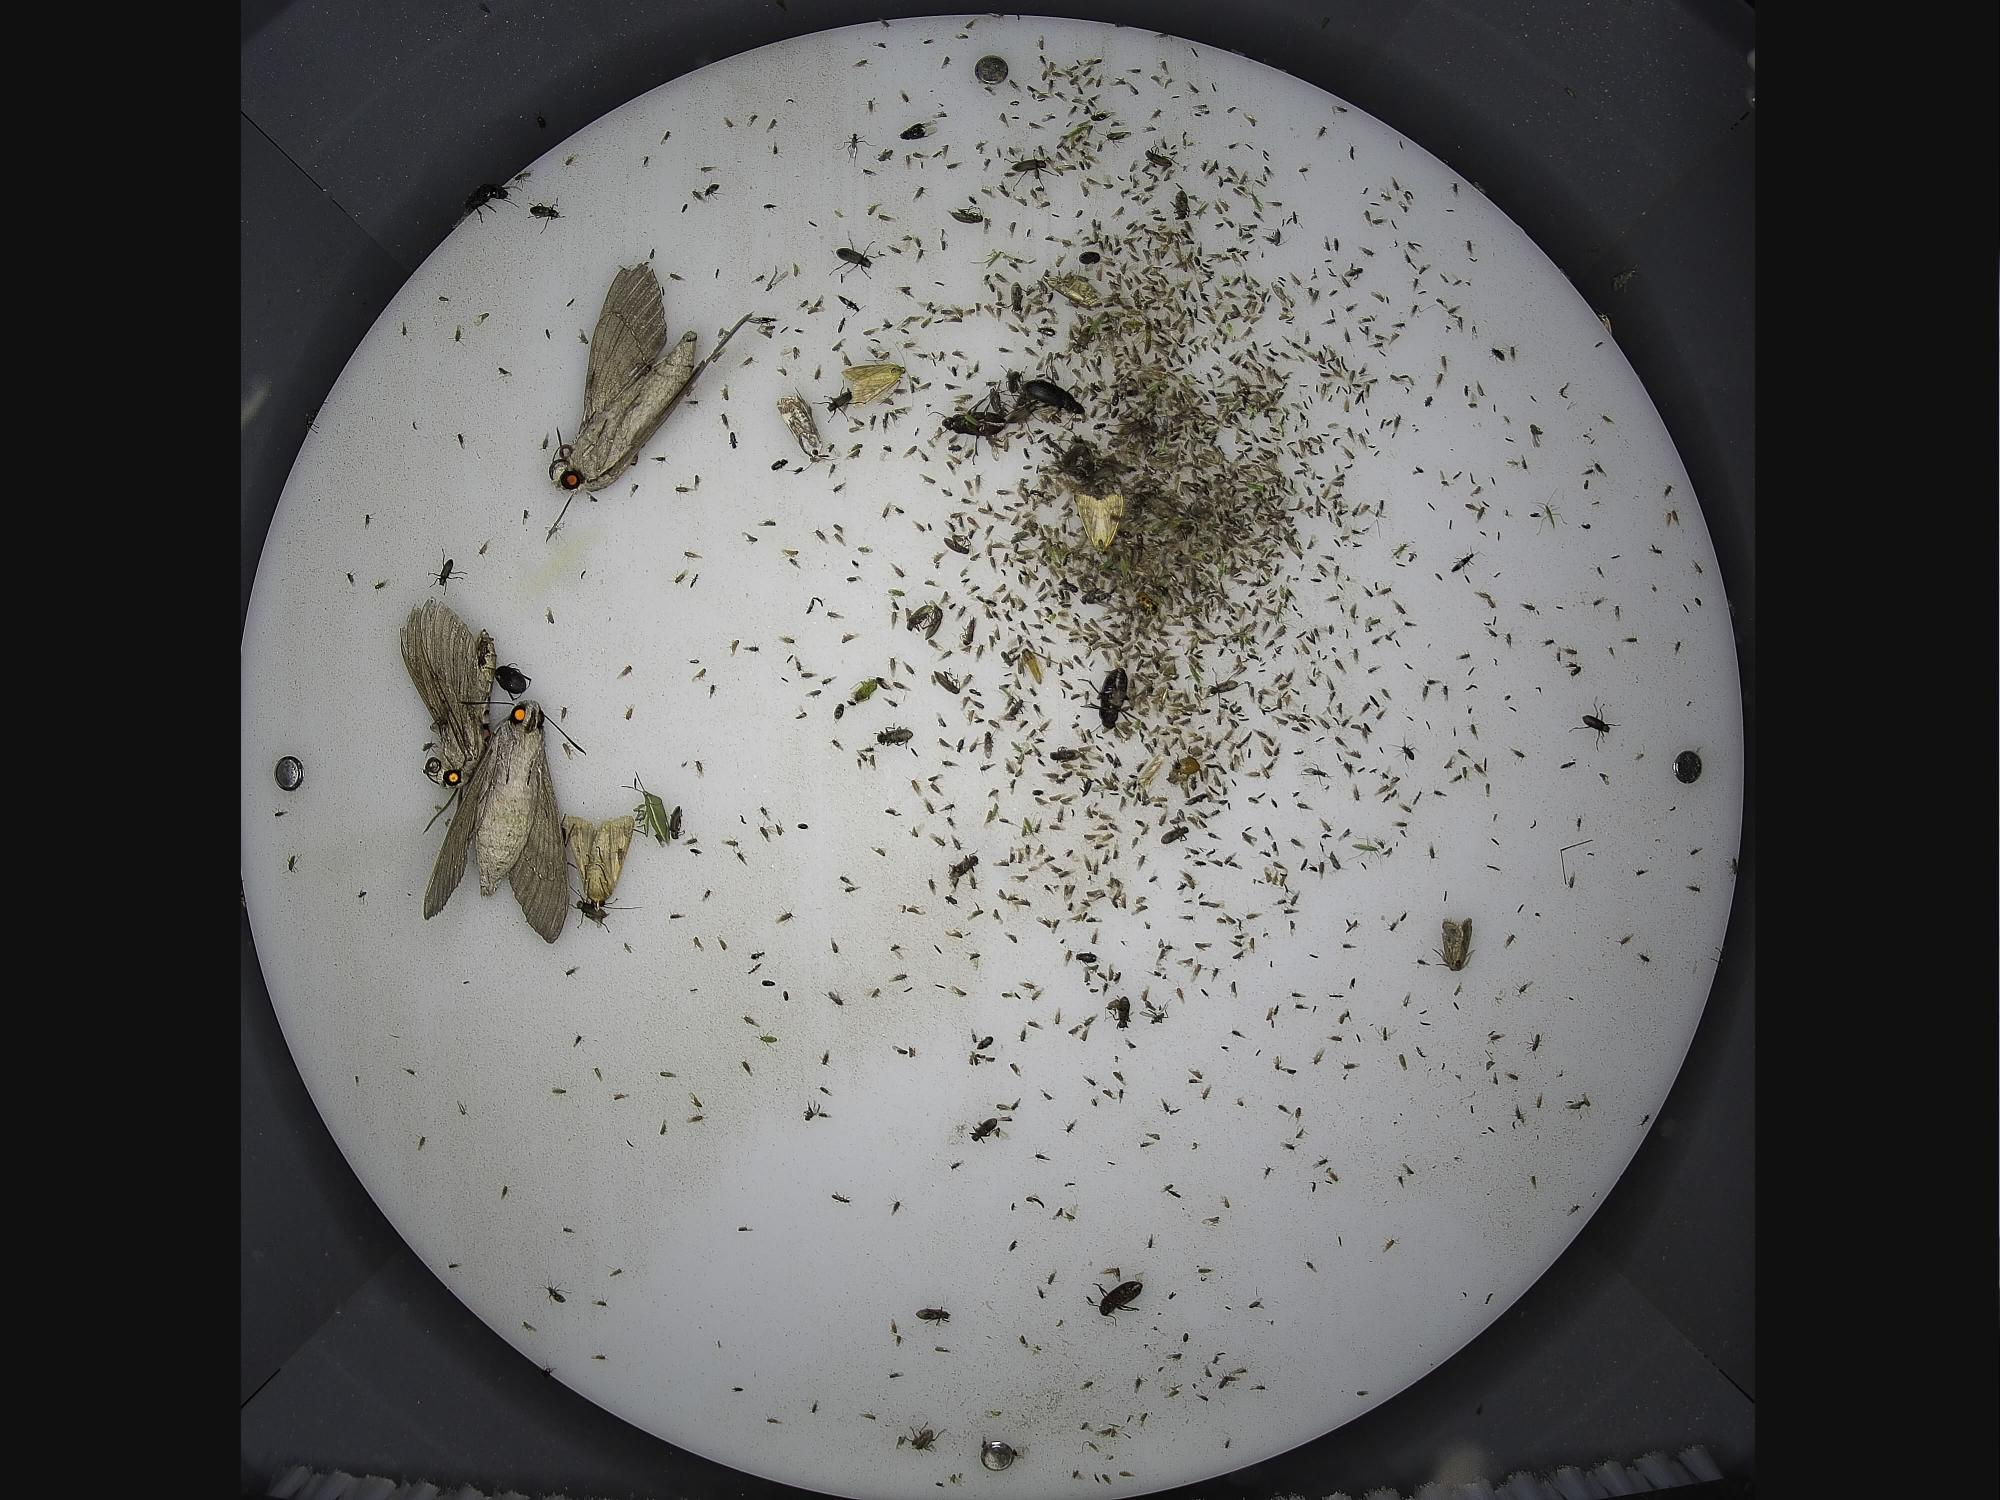Chrysopidae: (1345, 832, 1387, 868), (847, 676, 879, 706), (882, 588, 910, 599)
Coridius chinensis: (619, 766, 671, 848)
Tiny fly: (894, 118, 942, 143), (902, 600, 934, 633), (912, 1305, 953, 1328), (946, 205, 987, 225), (772, 903, 798, 930), (975, 730, 998, 759), (1072, 947, 1104, 966), (802, 1097, 824, 1123), (808, 525, 831, 548), (872, 498, 894, 523), (904, 772, 923, 800), (683, 1109, 712, 1128), (824, 603, 847, 626), (672, 477, 693, 503), (474, 536, 493, 562), (614, 660, 636, 682), (680, 547, 707, 564), (372, 574, 391, 596), (343, 566, 359, 589), (839, 630, 863, 646), (718, 380, 732, 403), (691, 666, 709, 685), (620, 704, 636, 725), (726, 637, 740, 659), (780, 547, 802, 559), (521, 507, 534, 528), (364, 514, 378, 529)
beetle: (923, 392, 1008, 465), (1074, 665, 1140, 731), (1022, 370, 1090, 425), (1082, 1278, 1145, 1330), (1564, 696, 1624, 750), (1000, 143, 1063, 194), (825, 236, 887, 282), (424, 547, 469, 596), (813, 378, 852, 427), (524, 197, 570, 235), (902, 1420, 943, 1457), (943, 846, 984, 882), (871, 722, 920, 748), (965, 1114, 1000, 1147), (1112, 989, 1135, 1034), (932, 666, 965, 696), (1156, 824, 1192, 849), (1046, 741, 1082, 763), (1098, 128, 1132, 150), (1169, 189, 1192, 221), (669, 802, 687, 841), (767, 457, 791, 473)
moth: (540, 247, 765, 501), (416, 692, 591, 947), (394, 594, 498, 796), (561, 810, 636, 911), (776, 384, 827, 463), (839, 362, 909, 410), (1076, 493, 1123, 556), (1428, 914, 1477, 974), (1041, 263, 1102, 310)
